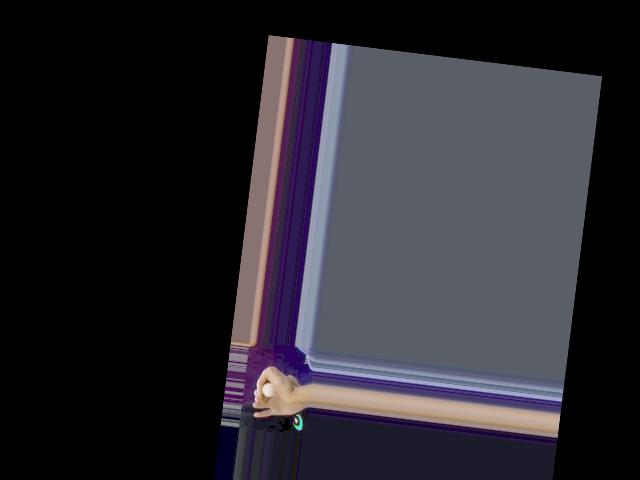egg: (261, 381, 274, 397)
